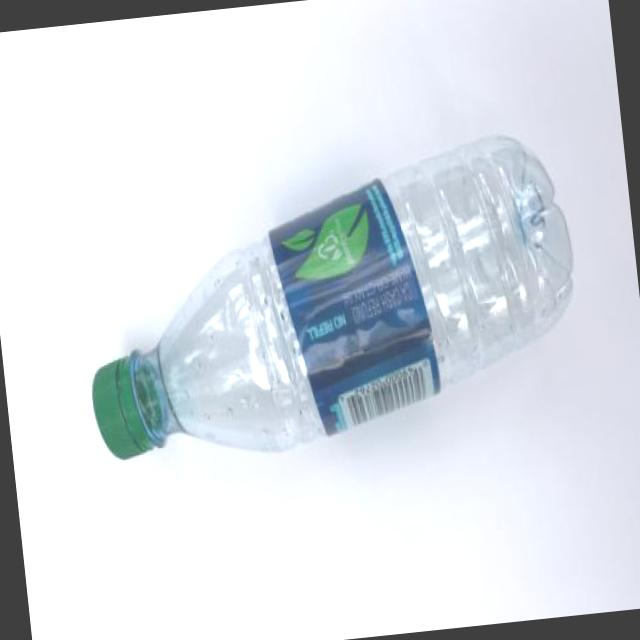Recycle: (69, 128, 591, 474)
